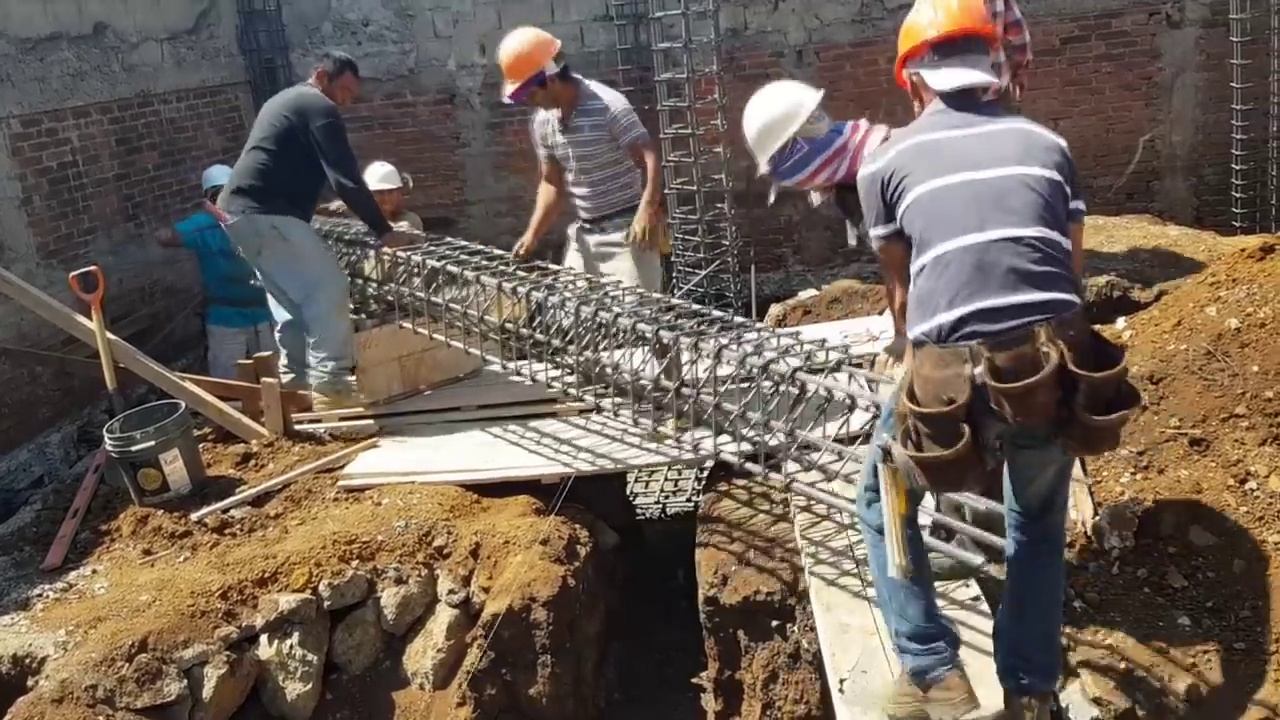helmet: (891, 3, 1006, 89), (740, 81, 826, 179), (495, 26, 562, 97), (360, 160, 405, 194), (199, 161, 237, 192)
helmet-off: (306, 50, 367, 111)
helmet-on: (740, 78, 853, 203), (891, 2, 1007, 120), (496, 25, 585, 113), (360, 159, 406, 220), (196, 160, 237, 213)
person: (856, 3, 1086, 512), (216, 54, 386, 415), (496, 21, 661, 294), (740, 78, 909, 249), (154, 159, 278, 382), (358, 158, 423, 232)
